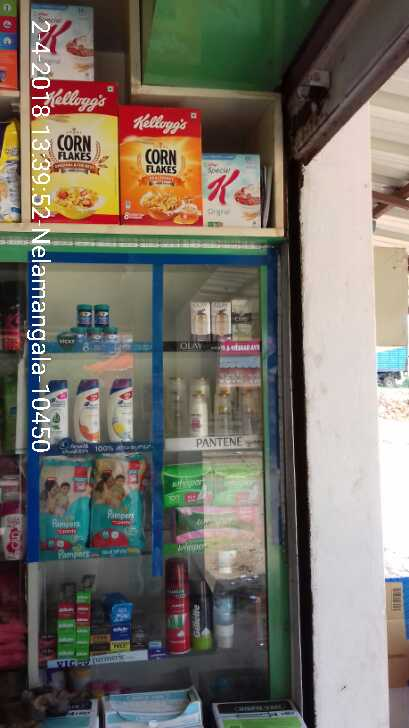vicks: (74, 304, 118, 345)
